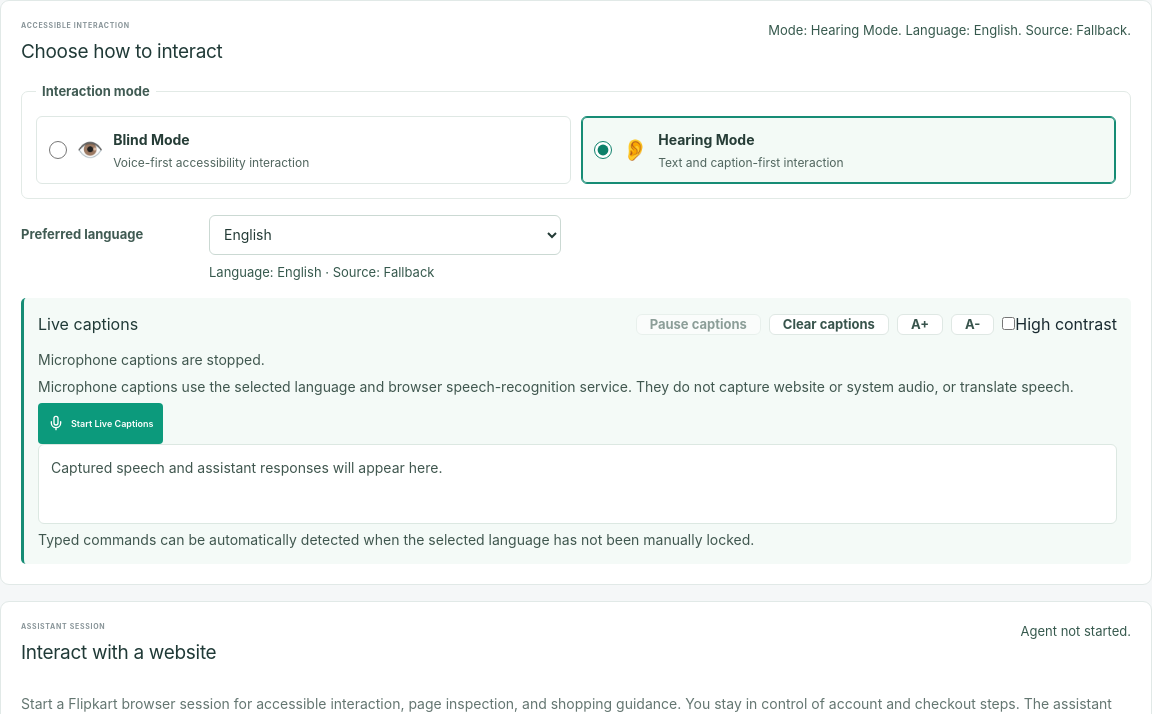
Test: AccessibilityAssistant › selects Blind Mode and displays honest voice placeholders
Click the radio button labelled "👁️ Blind Mode Voice-first accessibility interaction" at (58, 150), box [49,141,67,159]
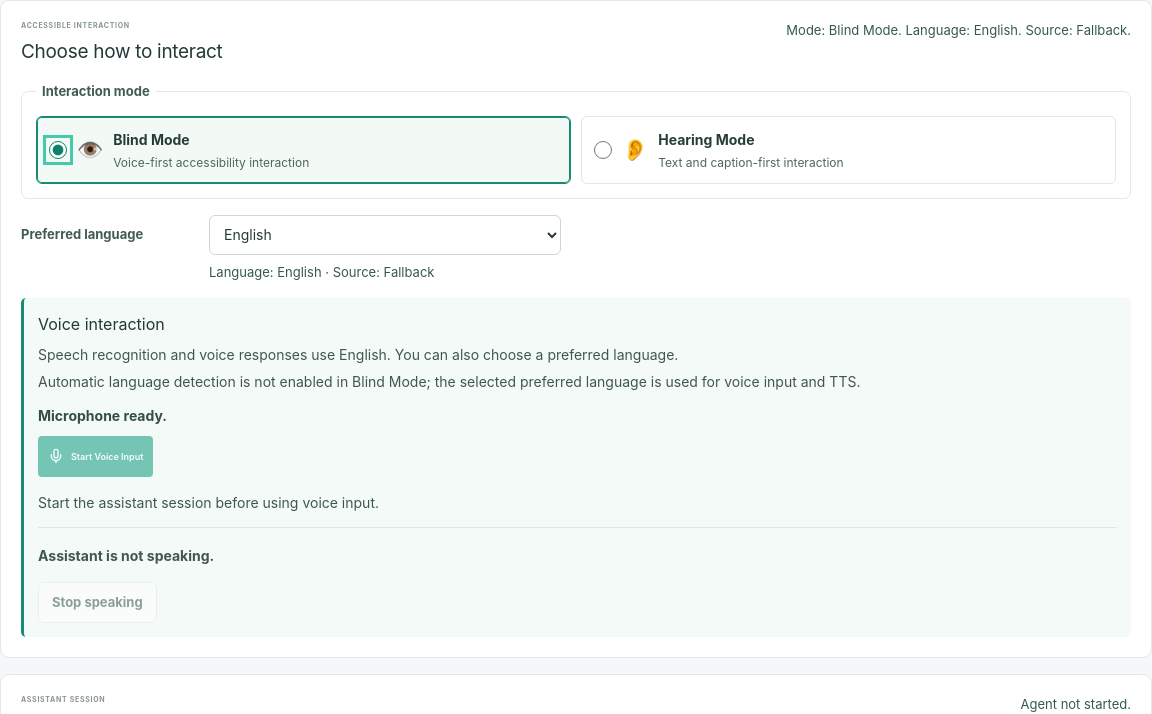
Expected: the radio button labelled "👁️ Blind Mode Voice-first accessibility interaction" is checked, [49,141,67,159]
Expected: the heading "Voice interaction" is shown, [38,314,165,334]
Expected: the button "Start Voice Input" is shown, [38,436,153,477]
